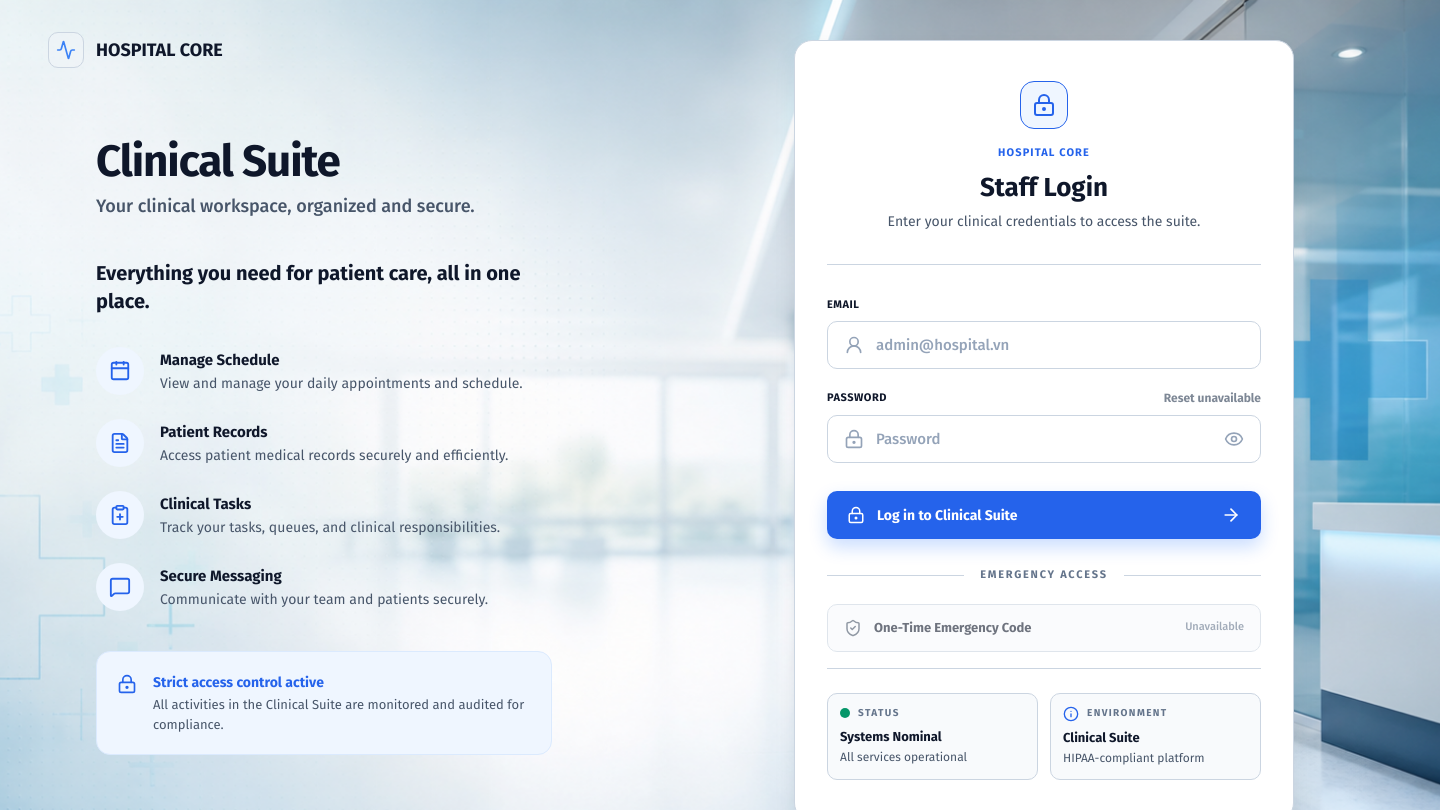
Test: StaffLoginPage › rejects a successful response that does not include a staff session
In the field labelled "Email": coordinates (1060, 345) [876,322,1244,368], type "frontdesk@hospital.vn"
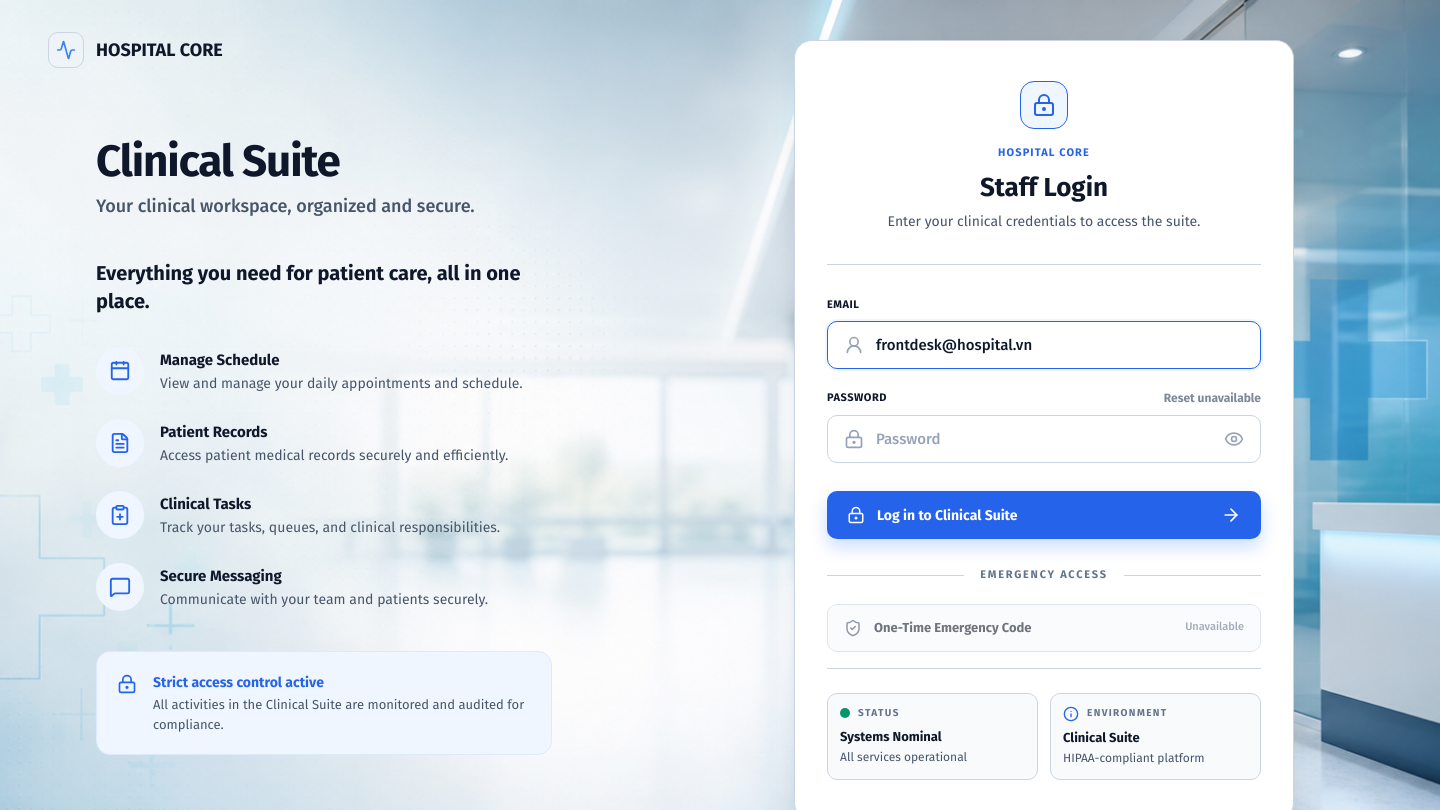
In the password field labelled "Password": coordinates (1044, 439) [876,416,1212,462], type "secret"
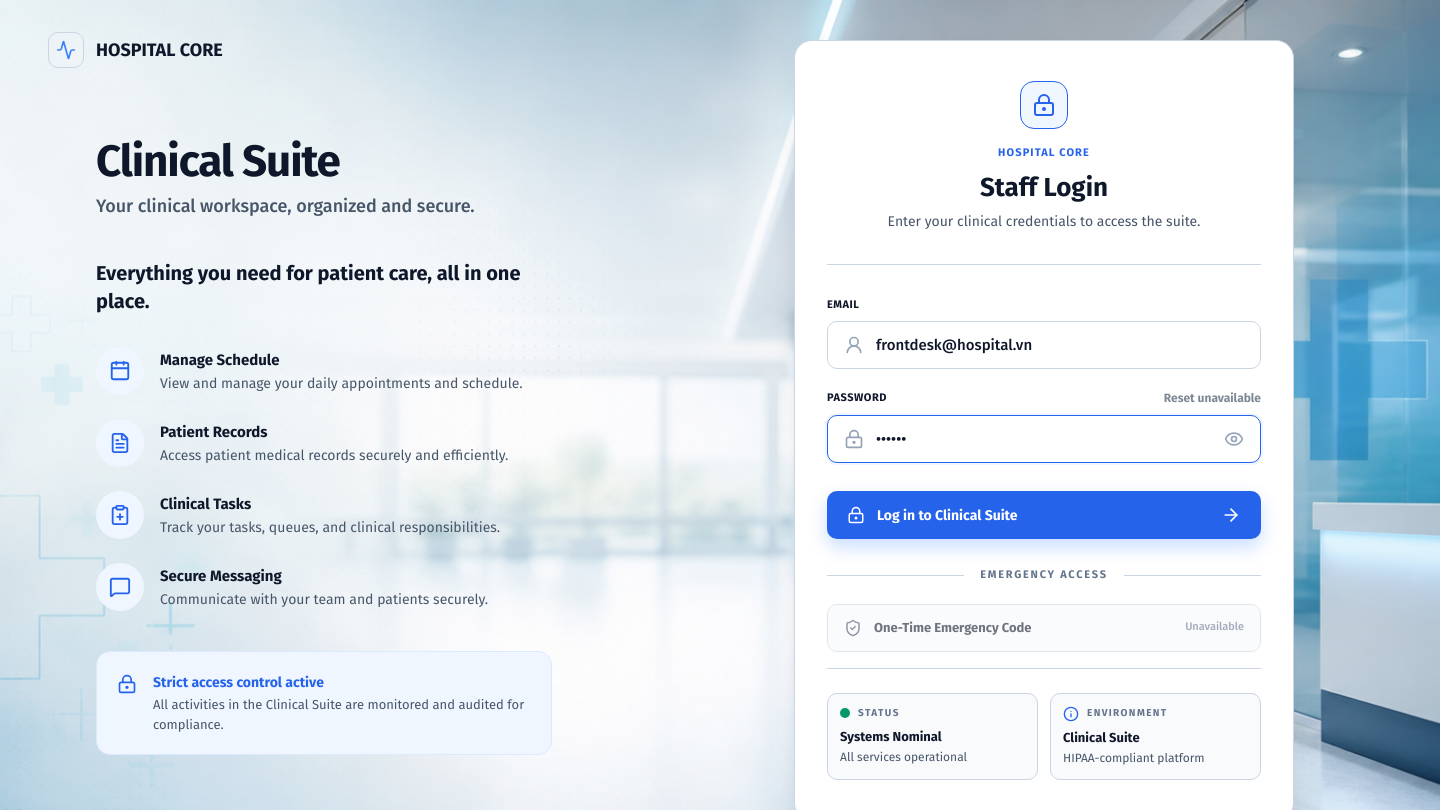
Click the button "Log in to Clinical Suite": coordinates (947, 515) [827,491,1261,539]
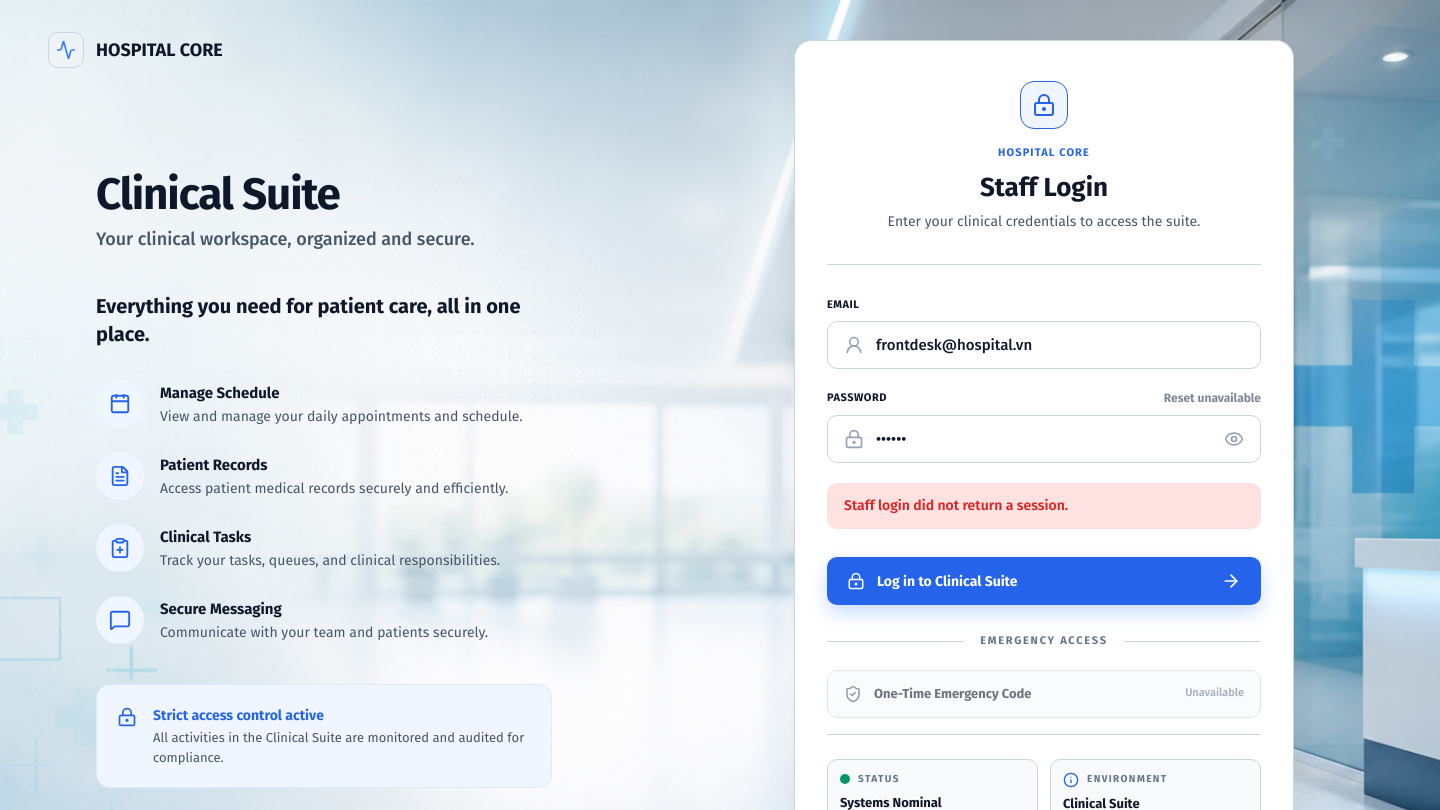
Expected: the message reads "Staff login did not return a session.", [844,497,1068,514]
